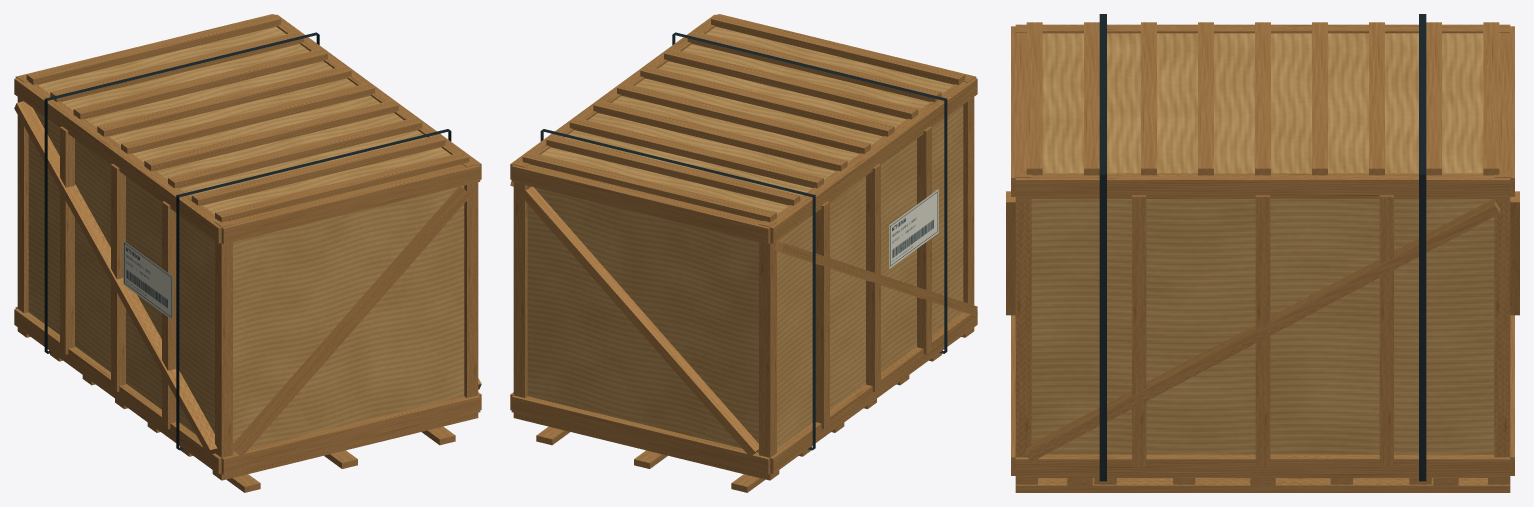
Rendered from wooden_crate.glb.
3 renders of one model, left to right at view 1: azimuth 30°, elevation 25°; view 2: azimuth 150°, elevation 25°; view 3: azimuth 270°, elevation 25°, orthographic. The views are drawn at different scales.
Parts seen in each view (by area): view 1: Plywood, Pine dunnage, Steel banding, Packing label; view 2: Plywood, Pine dunnage, Steel banding, Packing label; view 3: Plywood, Pine dunnage, Steel banding.
Boxes of the visible parts, x1=… form: Plywood: x1=28, y1=26, x2=464, y2=452; Pine dunnage: x1=14, y1=14, x2=481, y2=492; Steel banding: x1=44, y1=32, x2=451, y2=450; Packing label: x1=123, y1=240, x2=172, y2=319; Plywood: x1=527, y1=26, x2=963, y2=452; Pine dunnage: x1=510, y1=14, x2=977, y2=492; Steel banding: x1=540, y1=32, x2=947, y2=450; Packing label: x1=889, y1=189, x2=938, y2=268; Plywood: x1=1031, y1=33, x2=1494, y2=454; Pine dunnage: x1=1006, y1=22, x2=1519, y2=492; Steel banding: x1=1099, y1=14, x2=1426, y2=481.
Size of the model in its own units: 2.38 by 2.33 by 3.22.
4 materials, 3 textured.
